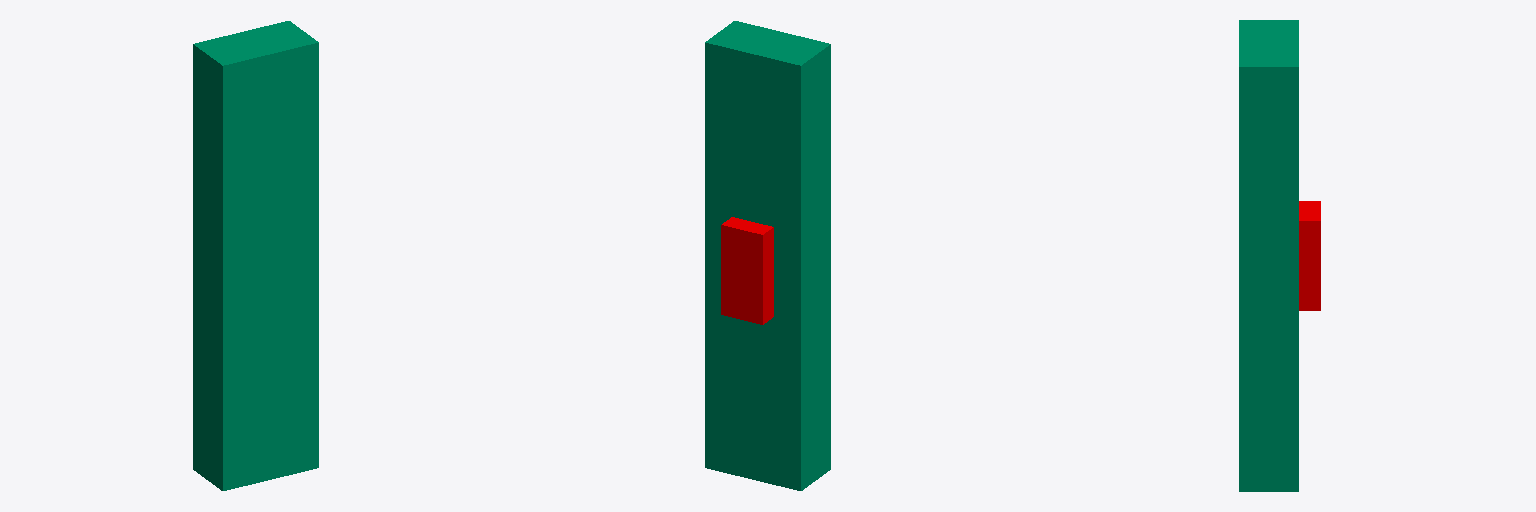
The robot description file, URDF, robot "knife":
<?xml version='1.0' encoding='utf-8'?>
<robot name="knife">
  <link name="base" /><joint name="joint_0" type="fixed"><origin xyz="0 0 0" rpy="0 0 0" /><parent link="base" /><child link="link_0" /></joint><link name="link_1">
    <visual name="link_1">
      <origin xyz="0 0.011711 0" rpy="0 0 0" />
      <geometry>
        <box size="0.013808635052971288 0.006272718157991804 0.0284340798256171" /></geometry>
    <material name="red"><color rgba="1 0 0 1" /></material></visual>
    <collision>
      <origin xyz="0 0.011711 0" rpy="0 0 0" />
      <geometry>
        <box size="0.013808635052971288 0.006272718157991804 0.0284340798256171" /></geometry>
    </collision>
    </link>
  <joint name="joint_1" type="prismatic">
    <origin xyz="0 0 0" />
    <axis xyz="0 0 1" />
    <child link="link_1" />
    <parent link="link_0" />
    <limit lower="-0.029162" upper="0.020838" effort="100.0" velocity="1.0" />
  </joint>
  <link name="link_0">
    <visual name="link_0">
      <origin xyz="0 0 0" />
      <geometry>
        <box size="0.03179241568729898 0.01714990199356057 0.13440892932167714" /></geometry>
    </visual>
    <collision>
      <origin xyz="0 0 0" />
      <geometry>
        <box size="0.03179241568729898 0.01714990199356057 0.13440892932167714" /></geometry>
    </collision>
    </link>
</robot>

--- Render facts (derived) ---
The picture shows the robot from 3 angles, left to right: view 1: azimuth 30°, elevation 25°; view 2: azimuth 150°, elevation 25°; view 3: azimuth 270°, elevation 25°; orthographic projection.
Model knife with 3 links and 2 joints (1 prismatic, 1 fixed), rooted at base, posed all joints at 0.
Links seen in each view (by area): view 1: link_0; view 2: link_0, link_1; view 3: link_0, link_1.
Link boxes in pixels (bbox=[...]): link_0: bbox=[193, 21, 318, 490]; link_0: bbox=[705, 21, 830, 490]; link_1: bbox=[721, 217, 773, 324]; link_0: bbox=[1239, 20, 1298, 491]; link_1: bbox=[1299, 201, 1320, 310].
Size in the robot's own frame: 0.0318 by 0.0234 by 0.1344 metres.
Geometry: primitives only (box / cylinder / sphere), no mesh files.
